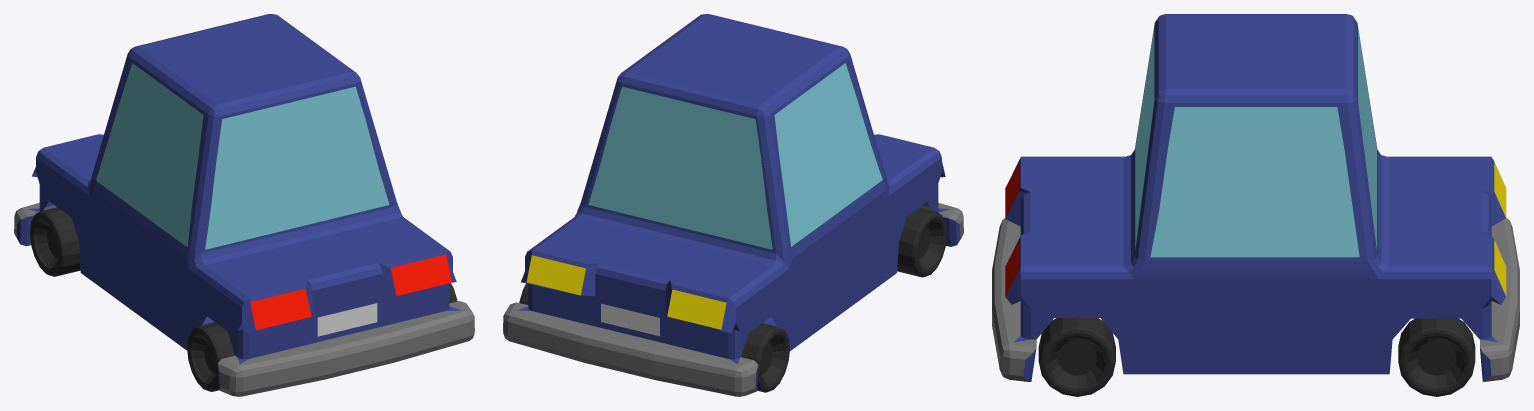
File: TS-car-1.fbx
The picture shows the model from 3 angles, left to right: view 1: azimuth 30°, elevation 25°; view 2: azimuth 150°, elevation 25°; view 3: azimuth 270°, elevation 25°; orthographic projection. The views are drawn at different scales.
Parts seen in each view (by area): view 1: Cube.001; view 2: Cube.001; view 3: Cube.001.
Part boxes in pixels (bbox=[...]): Cube.001: bbox=[14, 14, 474, 396]; Cube.001: bbox=[503, 14, 963, 396]; Cube.001: bbox=[992, 14, 1519, 396].
Size of the model in its own units: 422 by 393 by 673.
